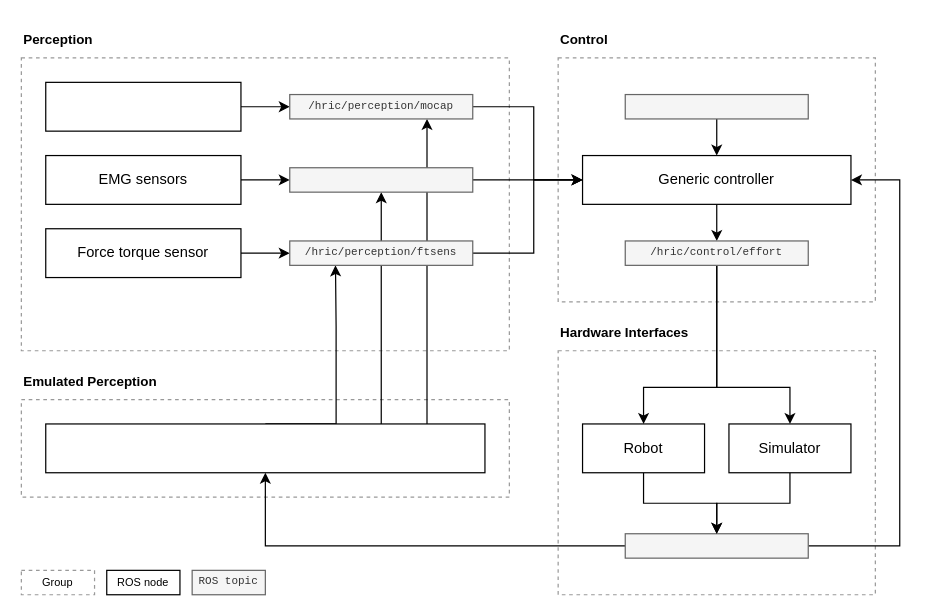
Image size: 931x616. Some labels were removed from this diagram. Here are the shapes that lost their labels. From the top down, the box of each, then its label:
(45, 81, 241, 131): Motion capture system
(624, 93, 808, 119): /hric/control/setpoint
(289, 167, 473, 192): /hric/perception/emg
(45, 423, 485, 473): Emulated human behavior model
(624, 533, 808, 558): /hric/hw/robot_state
